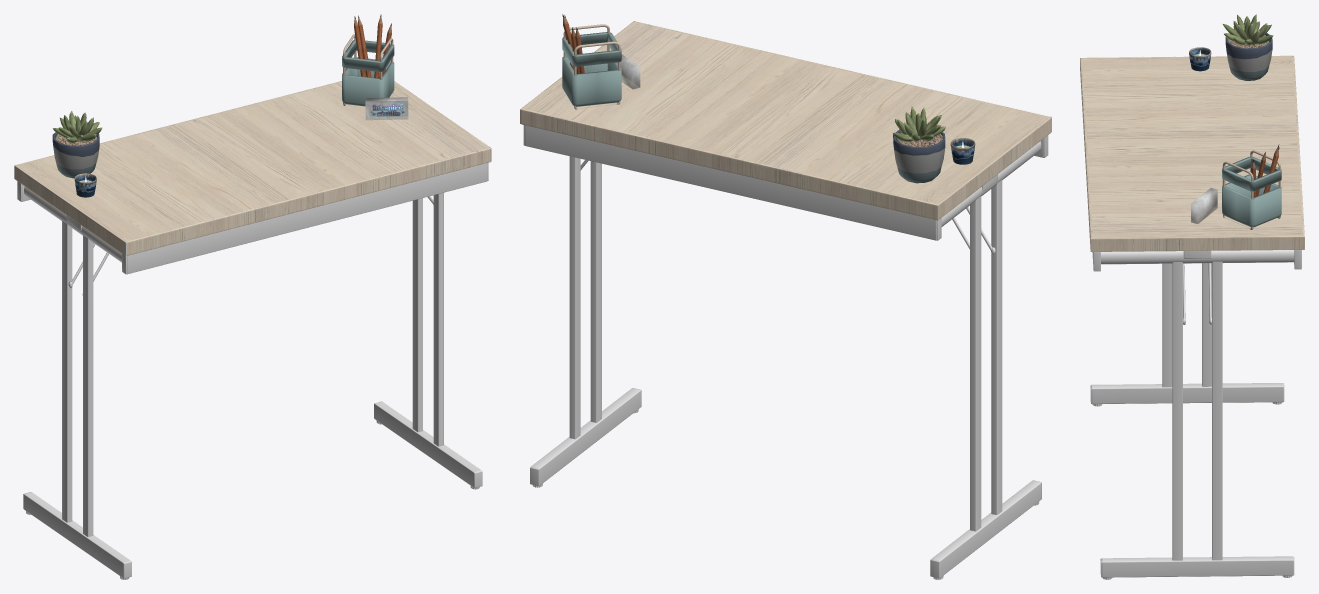
Rendered from updatedDeskRotatedComp.glb.
3 views of the same model, side by side, from view 1: azimuth 30°, elevation 25°; view 2: azimuth 150°, elevation 25°; view 3: azimuth 270°, elevation 25° (orthographic). The views are drawn at different scales.
Parts seen in each view (by area): view 1: desk_surface, desk_legs, Cube, G-cactus_gasteria_1, Cylinder.001, Blessed; view 2: desk_surface, desk_legs, Cube, G-cactus_gasteria_1; view 3: desk_surface, desk_legs, Cube, G-cactus_gasteria_1, Blessed, pot_1, Cylinder.001, Cube.001.
Part boxes in pixels (left/top/right/bottom): desk_surface: left=14, top=81, right=491, bottom=268; desk_legs: left=15, top=147, right=490, bottom=579; Cube: left=342, top=40, right=394, bottom=106; G-cactus_gasteria_1: left=52, top=111, right=102, bottom=178; Cylinder.001: left=354, top=14, right=391, bottom=78; Blessed: left=365, top=97, right=408, bottom=120; desk_surface: left=520, top=21, right=1051, bottom=220; desk_legs: left=523, top=21, right=1050, bottom=579; Cube: left=562, top=32, right=621, bottom=106; G-cactus_gasteria_1: left=893, top=106, right=945, bottom=183; desk_surface: left=1080, top=55, right=1304, bottom=251; desk_legs: left=1080, top=55, right=1304, bottom=579; Cube: left=1222, top=157, right=1281, bottom=227; G-cactus_gasteria_1: left=1223, top=14, right=1273, bottom=80; Blessed: left=1191, top=188, right=1217, bottom=223; pot_1: left=1189, top=47, right=1211, bottom=71; Cylinder.001: left=1251, top=144, right=1279, bottom=197; Cube.001: left=1222, top=150, right=1280, bottom=229.
Bounding box in the file's own units: 1.01 × 1.08 × 0.5243.
17 materials, 11 textured.
